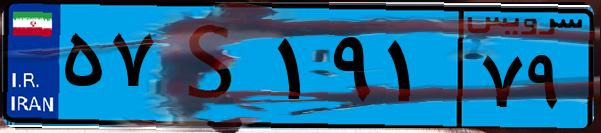1: (270, 28, 330, 110), (385, 28, 445, 110)
5: (57, 26, 110, 100)
7: (475, 38, 525, 113), (110, 28, 158, 98)
9: (330, 28, 385, 110), (525, 38, 570, 115)
S: (158, 12, 270, 120)
